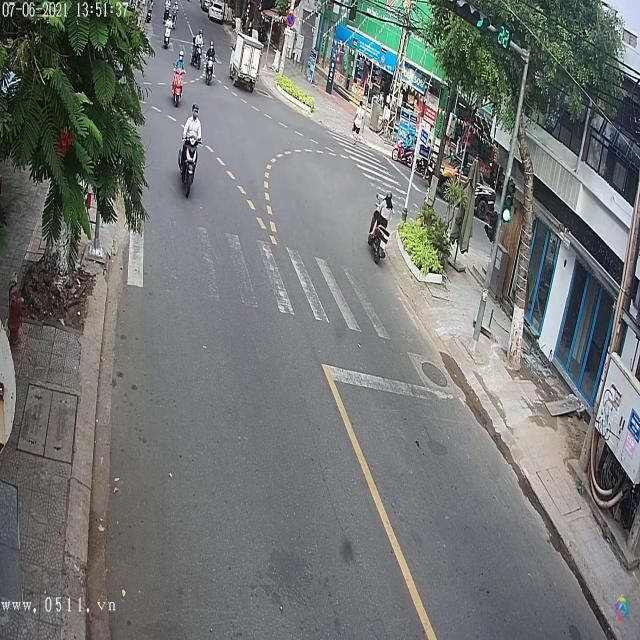motorcycle: (230, 33, 263, 94), (367, 197, 393, 268), (180, 137, 202, 198), (171, 75, 183, 108), (164, 21, 173, 51), (203, 61, 213, 84)
